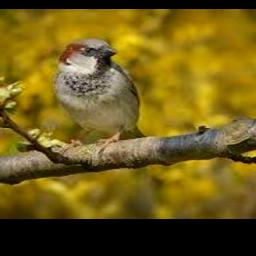Sparrow: (54, 38, 147, 146)
